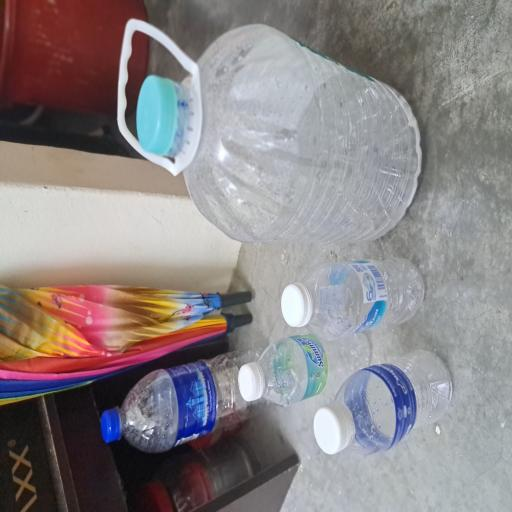plastic bottle: (203, 241, 365, 512), (44, 161, 125, 355), (80, 352, 141, 496), (131, 405, 194, 512), (39, 454, 125, 512)
plastic bottle cap: (266, 180, 328, 244), (44, 417, 82, 469), (136, 374, 174, 417), (82, 316, 113, 352), (52, 130, 80, 162)
